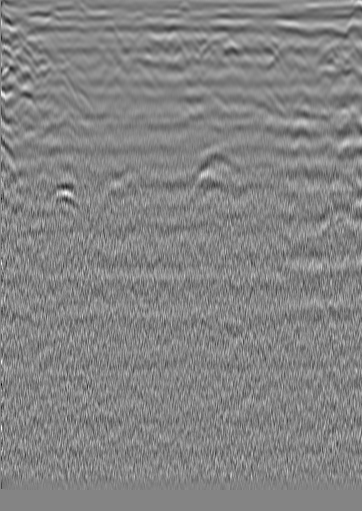가스: (97, 163, 148, 203)
상수: (316, 43, 336, 63)
우수: (176, 35, 196, 55)
